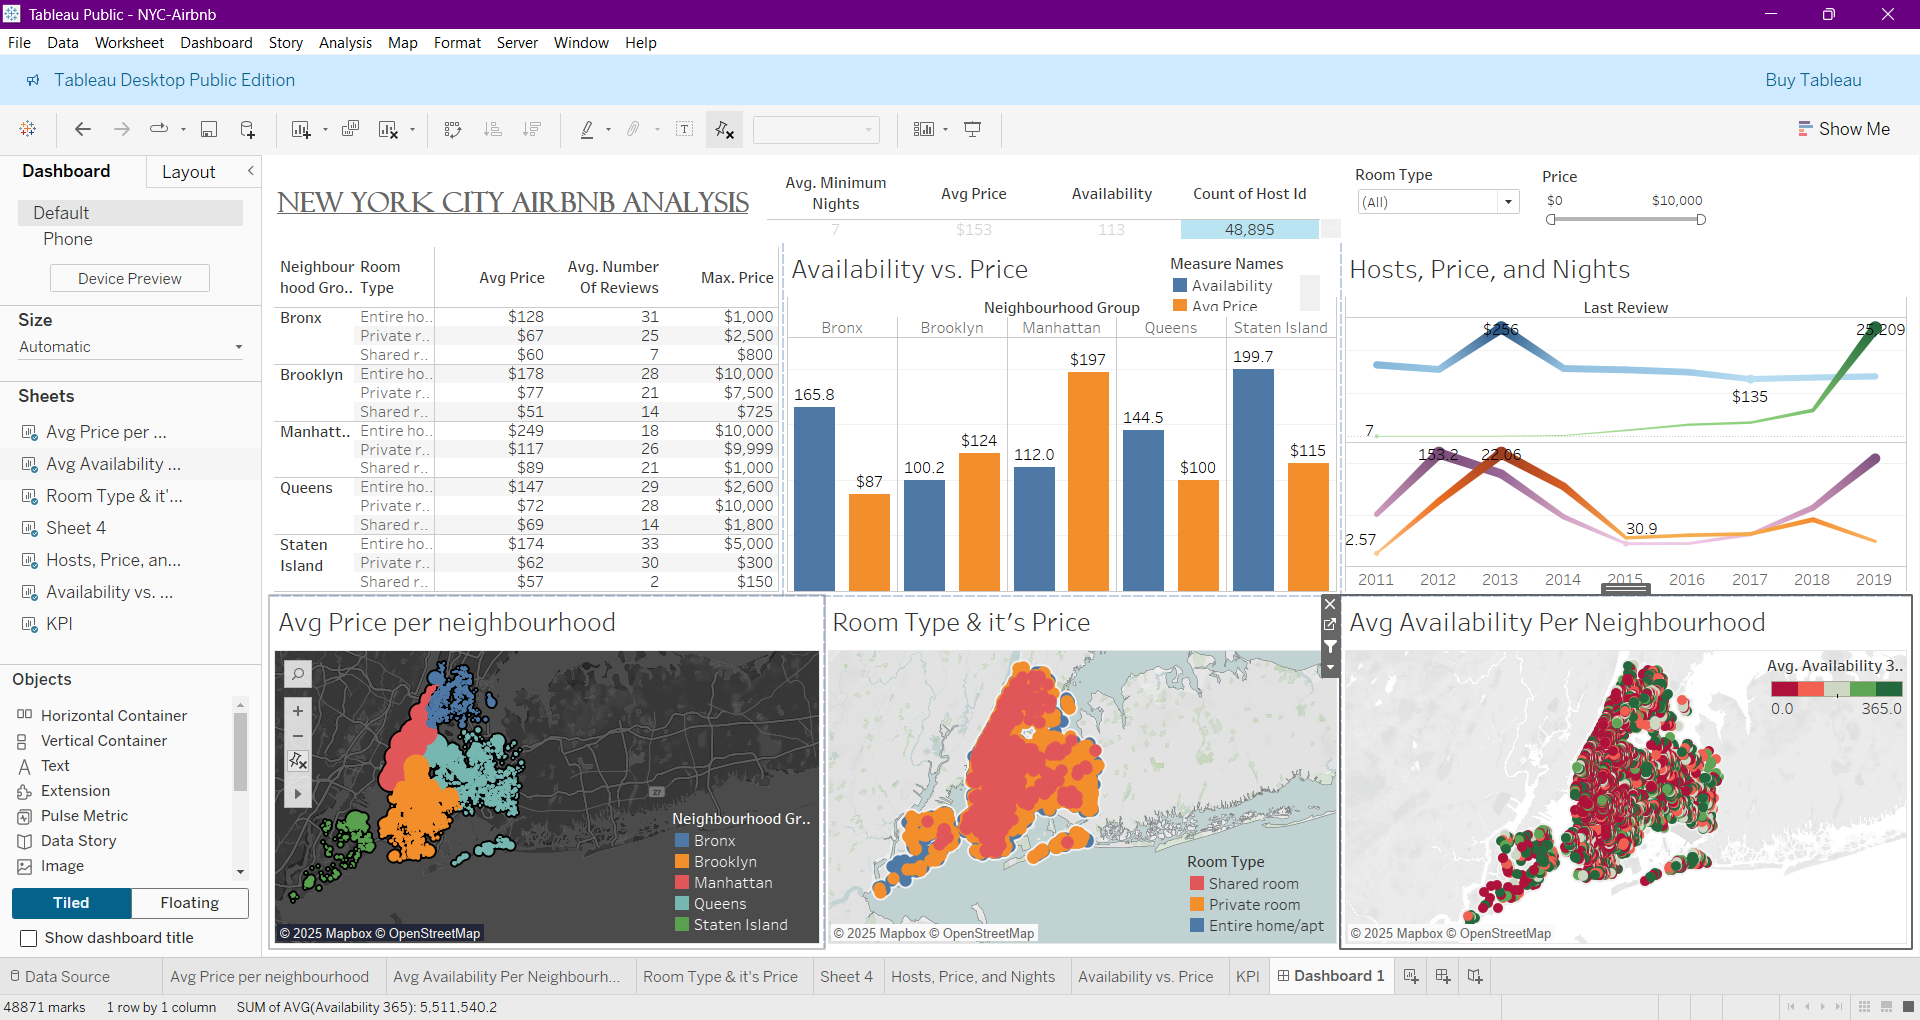

What the dashboard file says about the page in this screenshot:
{"tool":"tableau","page":{"name":"Dashboard 1","canvas":[1000,1000],"units":"permille","ordinal":0},"visuals":[{"type":"text","box":[4.8,10,297.5,99.9]},{"type":"worksheet","title":"KPI","mark":"Automatic","box":[302.4,10,692.8,99.9]},{"type":"filter","title":"Room Type & it's Price","param":"[federated.1qz7oyy0qili2o13w14a60yhagrn].[none:room_type:nk]","box":[659.6,11.2,101.4,76.2]},{"type":"filter","title":"Avg Price per neighbourhood","param":"[federated.1qz7oyy0qili2o13w14a60yhagrn].[none:price:qk]","box":[772.5,13.7,101.4,91.1]},{"type":"worksheet","title":"Sheet 4","mark":"Automatic","rows":["neighbourhood_group","room_type"],"box":[4.8,109.9,309.6,440.1]},{"type":"worksheet","title":"Availability vs. Price","mark":"Automatic","cols":["neighbourhood_group"],"box":[314.4,109.9,336.8,440.1]},{"type":"worksheet","title":"Hosts, Price, and Nights","mark":"Automatic","rows":["host_id","price","minimum_nights","availability_365"],"cols":["last_review"],"box":[651.2,109.9,344,440.1]},{"type":"legend","title":"Availability vs. Price","param":"[federated.1qz7oyy0qili2o13w14a60yhagrn].[:Measure Names]","box":[545.6,117.4,96.6,82.4]},{"type":"worksheet","title":"Avg Price per neighbourhood","mark":"Automatic","rows":["latitude"],"cols":["longitude"],"box":[4.8,549.9,334.3,440.1]},{"type":"worksheet","title":"Room Type & it's Price","mark":"Circle","rows":["latitude"],"cols":["longitude"],"box":[339.2,549.9,312.3,440.1]},{"type":"worksheet","title":"Avg Availability Per Neighbourhood","mark":"Automatic","rows":["latitude"],"cols":["longitude"],"box":[651.5,549.9,343.7,440.1]},{"type":"legend","title":"Avg Availability Per Neighbourhood","param":"[federated.1qz7oyy0qili2o13w14a60yhagrn].[avg:availability_365:qk]","box":[908.3,624.2,84.5,109.9]},{"type":"legend","title":"Avg Price per neighbourhood","param":"[federated.1qz7oyy0qili2o13w14a60yhagrn].[none:neighbourhood_group:nk]","box":[247.4,815.2,84.5,158.6]},{"type":"legend","title":"Room Type & it's Price","param":"[federated.1qz7oyy0qili2o13w14a60yhagrn].[none:room_type:nk]","box":[558.2,868.9,86.3,106.1]}]}

Visuals, with their boxes on the dashboard's canvas, which has no fixed pixel size, in thousandths of its width and height (x1, y1, x2, y2). These are canvas units, not pixel positions in the 1920x1020 screenshot, which may show the page scaled, cropped or inside an application window:
text: x1=5, y1=10, x2=302, y2=110
"KPI" worksheet: x1=302, y1=10, x2=995, y2=110
"Room Type & it's Price" filter: x1=660, y1=11, x2=761, y2=87
"Avg Price per neighbourhood" filter: x1=772, y1=14, x2=874, y2=105
"Sheet 4" worksheet: x1=5, y1=110, x2=314, y2=550
"Availability vs. Price" worksheet: x1=314, y1=110, x2=651, y2=550
"Hosts, Price, and Nights" worksheet: x1=651, y1=110, x2=995, y2=550
"Availability vs. Price" legend: x1=546, y1=117, x2=642, y2=200
"Avg Price per neighbourhood" worksheet: x1=5, y1=550, x2=339, y2=990
"Room Type & it's Price" worksheet (Circle marks): x1=339, y1=550, x2=652, y2=990
"Avg Availability Per Neighbourhood" worksheet: x1=652, y1=550, x2=995, y2=990
"Avg Availability Per Neighbourhood" legend: x1=908, y1=624, x2=993, y2=734
"Avg Price per neighbourhood" legend: x1=247, y1=815, x2=332, y2=974
"Room Type & it's Price" legend: x1=558, y1=869, x2=644, y2=975
